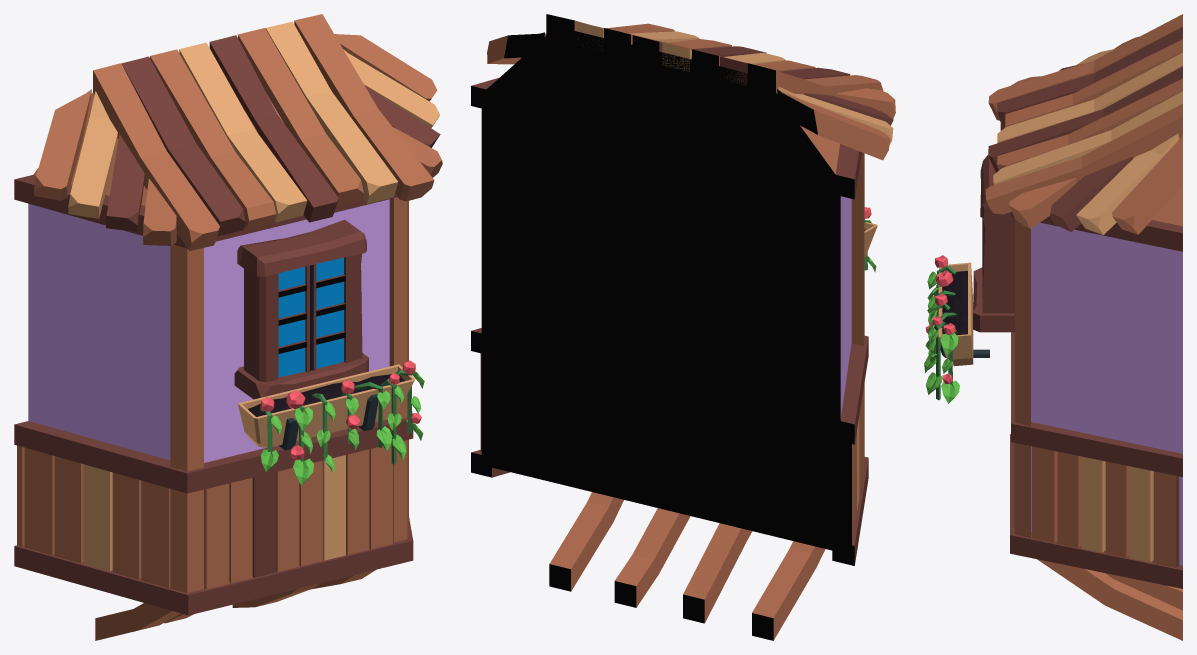
File: Building Addon 07.fbx
The picture shows the model from 3 angles, left to right: view 1: azimuth 30°, elevation 25°; view 2: azimuth 150°, elevation 25°; view 3: azimuth 270°, elevation 25°; orthographic projection. The views are drawn at different scales.
Visible parts, largest first — view 1: Building Addon 07; view 2: Building Addon 07; view 3: Building Addon 07.
Part boxes in pixels (x1,y1,x2,y2): Building Addon 07: (14,14,442,640); Building Addon 07: (471,14,895,640); Building Addon 07: (924,14,1182,640).
Size of the model in its own units: 502 by 683 by 304.
